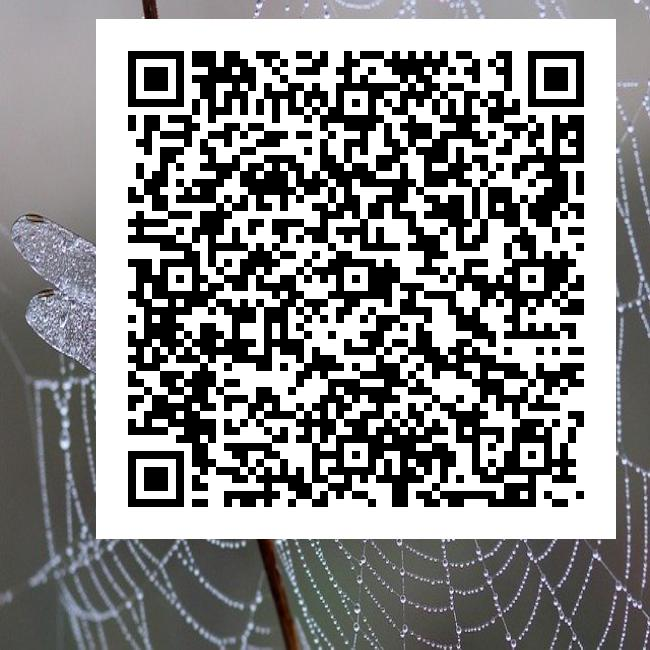qr_code: (96, 19, 615, 538)
